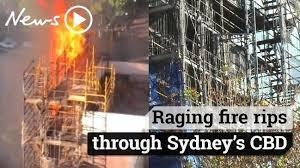fire: (51, 13, 91, 60)
